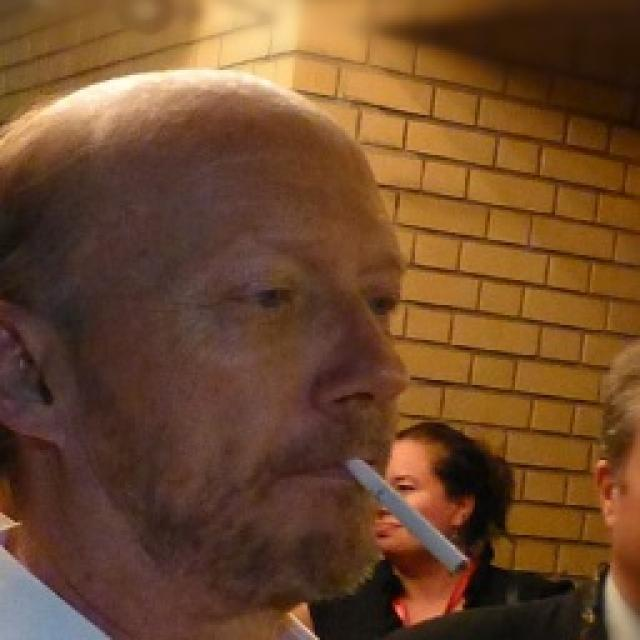no-glasses: (204, 247, 402, 329)
